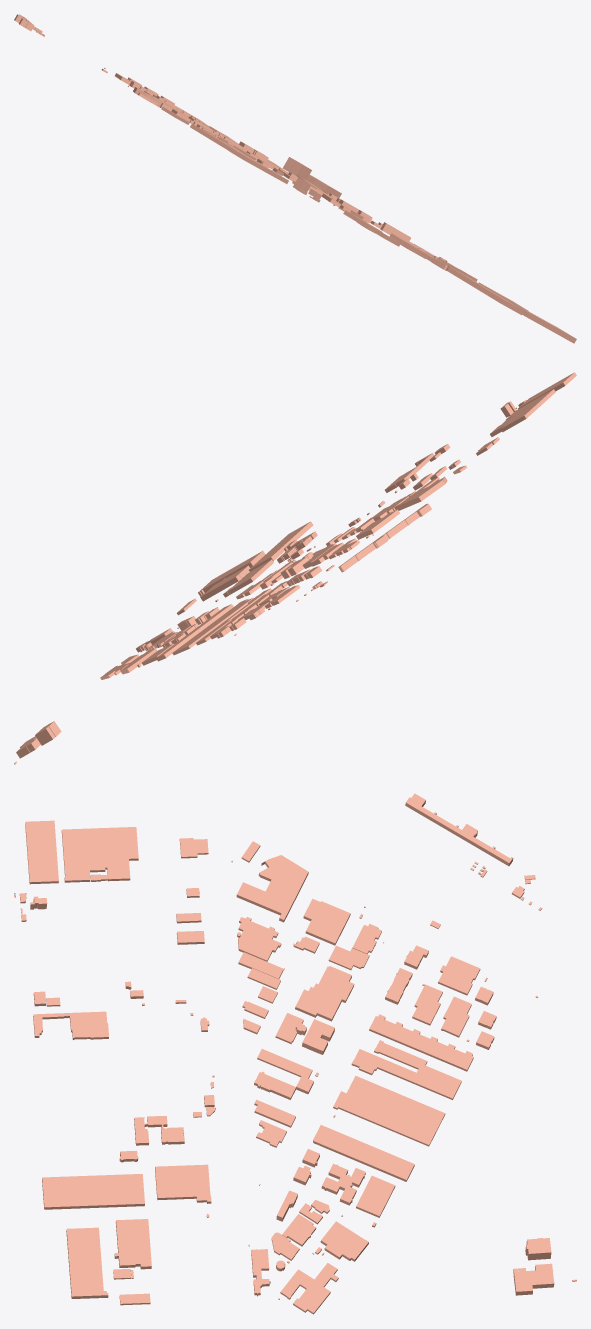
3 views of the same model, one above another, from view 1: azimuth 30°, elevation 25°; view 2: azimuth 150°, elevation 25°; view 3: azimuth 270°, elevation 25° (orthographic). The views are drawn at different scales.
Size of the model in its own units: 1066 by 809 by 1270.
